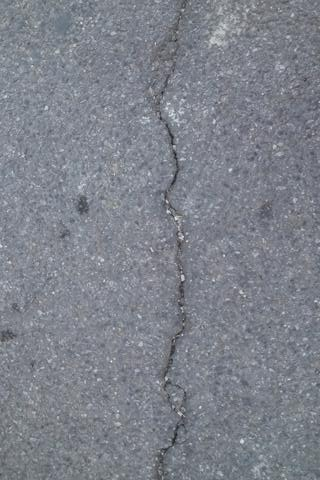A: (150, 1, 194, 480)
